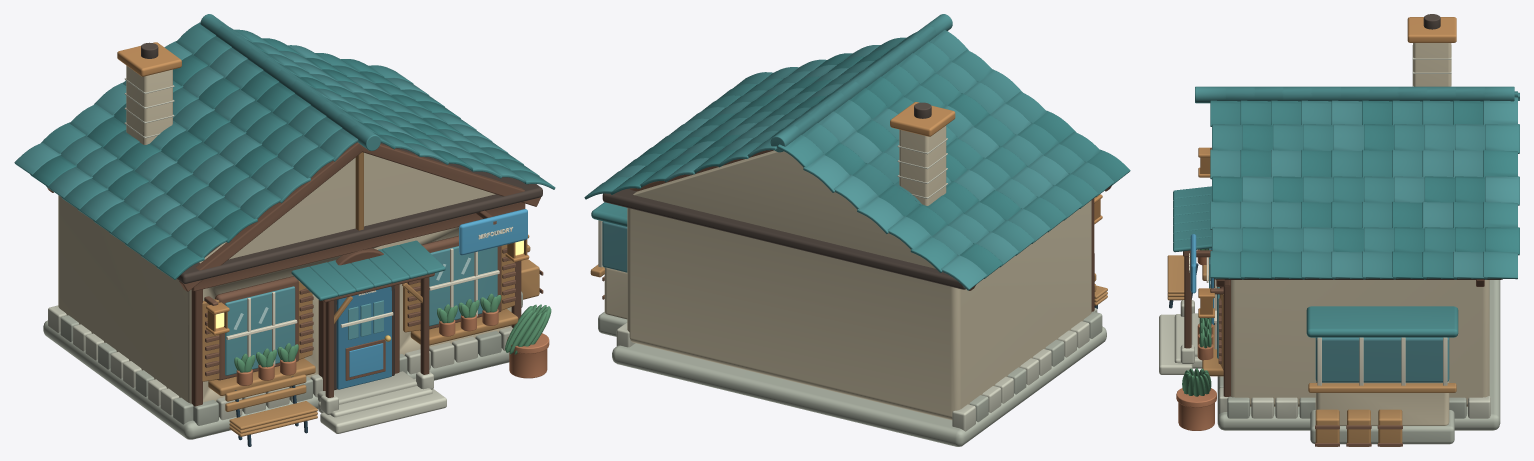
The model's file is arrival.glb.
3 views of the same model, side by side, from view 1: azimuth 30°, elevation 25°; view 2: azimuth 150°, elevation 25°; view 3: azimuth 270°, elevation 25° (orthographic). The views are drawn at different scales.
Visible parts, largest first — view 1: Workshop · Warm limestone plaster, Workshop · Oiled walnut trim, Workshop · Glazed sea green tile 2, Workshop · Glazed sea green tile 3, Workshop · Glazed sea green tile 0, Workshop · Light limestone, Workshop · Glazed sea green tile 1, Workshop · Honey cedar, Workshop · Glazed sea green tile 4, Workshop · Blue green glazing, Workshop · Foundation limestone, Workshop · Deep timber (+5 smaller); view 2: Workshop · Warm limestone plaster, Workshop · Glazed sea green tile 2, Workshop · Glazed sea green tile 3, Workshop · Foundation limestone, Workshop · Glazed sea green tile 0, Workshop · Glazed sea green tile 4, Workshop · Glazed sea green tile 1, Workshop · Deep timber, Workshop · Light limestone, Workshop · Warm brushed copper, Workshop · Blue green glazing, Workshop · Oiled walnut trim; view 3: Workshop · Warm limestone plaster, Workshop · Glazed sea green tile 2, Workshop · Glazed sea green tile 0, Workshop · Glazed sea green tile 3, Workshop · Glazed sea green tile 1, Workshop · Glazed sea green tile 4, Workshop · Foundation limestone, Workshop · Blue green glazing, Workshop · Honey cedar, Workshop · Light limestone, Workshop · Oiled walnut trim, Workshop · Warm brushed copper (+5 smaller).
Boxes of the visible parts, box(x1,y1,x2,y2) form: Workshop · Warm limestone plaster: box(58, 65, 511, 403); Workshop · Oiled walnut trim: box(47, 142, 543, 406); Workshop · Glazed sea green tile 2: box(41, 22, 555, 300); Workshop · Glazed sea green tile 3: box(60, 14, 526, 221); Workshop · Glazed sea green tile 0: box(30, 38, 472, 279); Workshop · Light limestone: box(48, 78, 512, 433); Workshop · Glazed sea green tile 1: box(93, 53, 539, 257); Workshop · Honey cedar: box(202, 152, 539, 436); Workshop · Glazed sea green tile 4: box(14, 41, 492, 234); Workshop · Blue green glazing: box(225, 246, 497, 375); Workshop · Foundation limestone: box(43, 291, 522, 439); Workshop · Deep timber: box(141, 42, 542, 390); Workshop · Warm limestone plaster: box(604, 125, 1091, 420); Workshop · Glazed sea green tile 2: box(584, 37, 1114, 272); Workshop · Glazed sea green tile 3: box(654, 14, 1050, 255); Workshop · Foundation limestone: box(598, 308, 1106, 446); Workshop · Glazed sea green tile 0: box(610, 49, 1130, 278); Workshop · Glazed sea green tile 4: box(606, 45, 1068, 290); Workshop · Glazed sea green tile 1: box(622, 32, 1100, 232); Workshop · Deep timber: box(602, 102, 965, 289); Workshop · Light limestone: box(616, 138, 1089, 431); Workshop · Warm brushed copper: box(890, 102, 1102, 224); Workshop · Blue green glazing: box(602, 221, 627, 272); Workshop · Oiled walnut trim: box(602, 150, 1111, 311); Workshop · Warm limestone plaster: box(1231, 43, 1489, 425); Workshop · Glazed sea green tile 2: box(1173, 91, 1519, 337); Workshop · Glazed sea green tile 0: box(1212, 100, 1519, 279); Workshop · Glazed sea green tile 3: box(1195, 86, 1517, 279); Workshop · Glazed sea green tile 1: box(1210, 100, 1517, 279); Workshop · Glazed sea green tile 4: box(1210, 92, 1519, 279); Workshop · Foundation limestone: box(1217, 280, 1500, 444); Workshop · Blue green glazing: box(1209, 248, 1449, 382); Workshop · Honey cedar: box(1167, 255, 1456, 446); Workshop · Light limestone: box(1159, 45, 1490, 418); Workshop · Oiled walnut trim: box(1183, 147, 1484, 446); Workshop · Warm brushed copper: box(1198, 17, 1456, 317).
Size of the model in its own units: 8.99 by 6.04 by 6.9.
